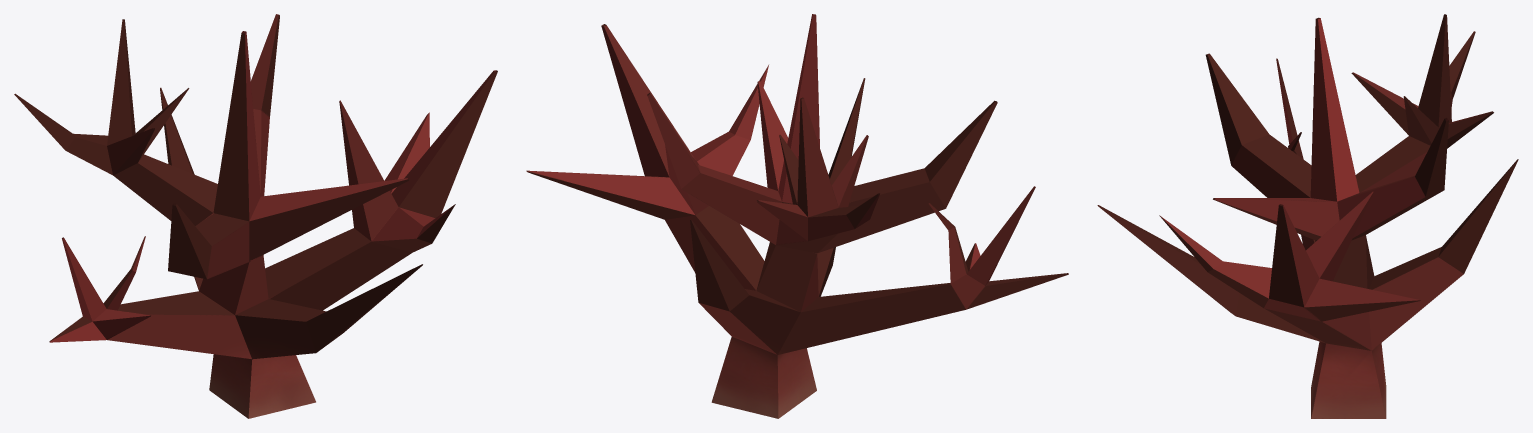
The model's file is arbusto-queimado.fbx.
3 views of the same model, side by side, from view 1: azimuth 30°, elevation 25°; view 2: azimuth 150°, elevation 25°; view 3: azimuth 270°, elevation 25° (orthographic). The views are drawn at different scales.
Parts seen in each view (by area): view 1: arbusto-queimado; view 2: arbusto-queimado; view 3: arbusto-queimado.
Boxes of the visible parts, <box> form: arbusto-queimado: <box>14,14,497,418</box>; arbusto-queimado: <box>526,14,1068,418</box>; arbusto-queimado: <box>1097,14,1518,418</box>.
Size of the model in its own units: 235 by 186 by 192.
